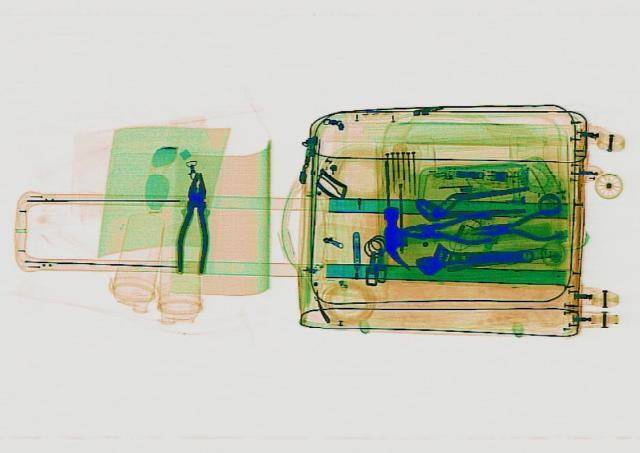Pliers: (170, 171, 216, 274), (464, 206, 564, 245), (398, 213, 490, 244)
Wrench: (412, 238, 534, 275)
